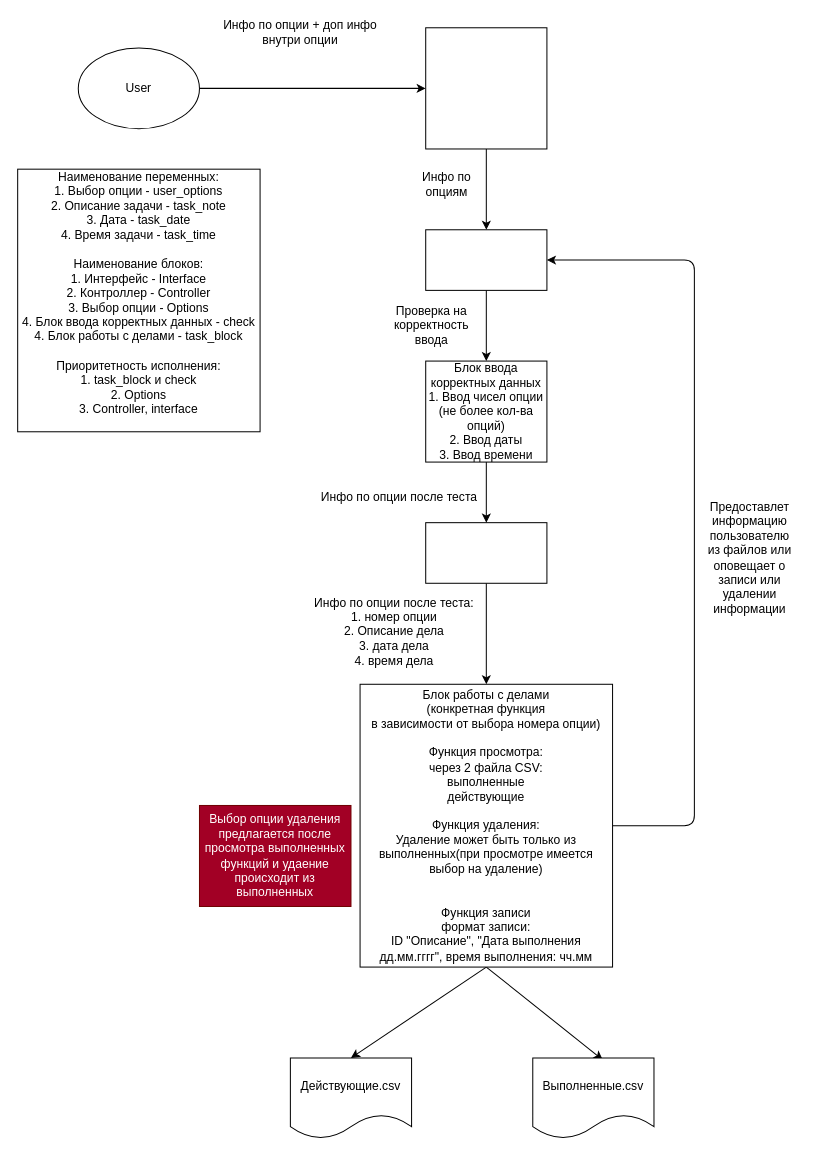
This 813x1156 diagram has some shape labels left out. Here are the shapes that lost their labels. From the top down, the centre of each, then its label:
At pixel 486 88: "Interface 1. Список дел 1.2. Действующие 1.3. Выполненные 2. Добавить".
At pixel 486 259: "Controller".
At pixel 486 552: "Блок выбора опции".
